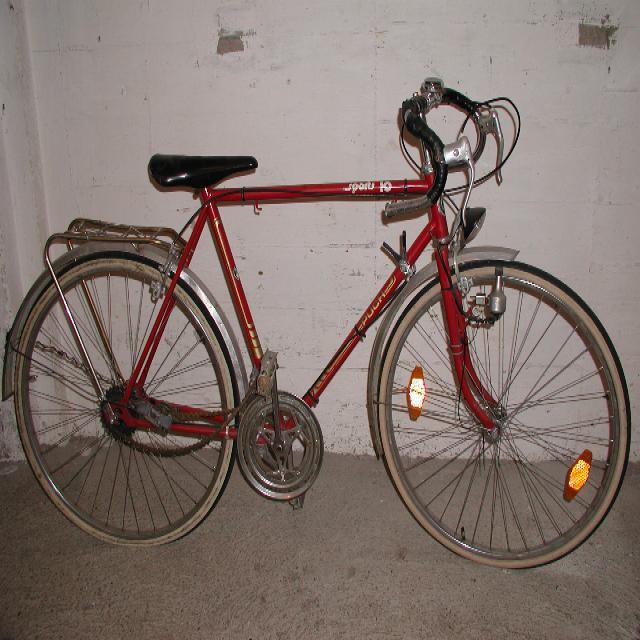bicycle: (2, 77, 631, 568)
